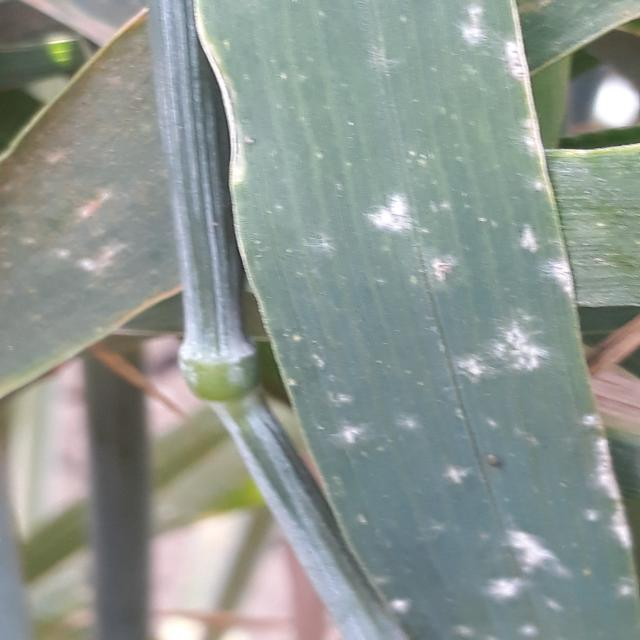powder_mildew: (201, 0, 638, 640), (0, 0, 192, 374)
